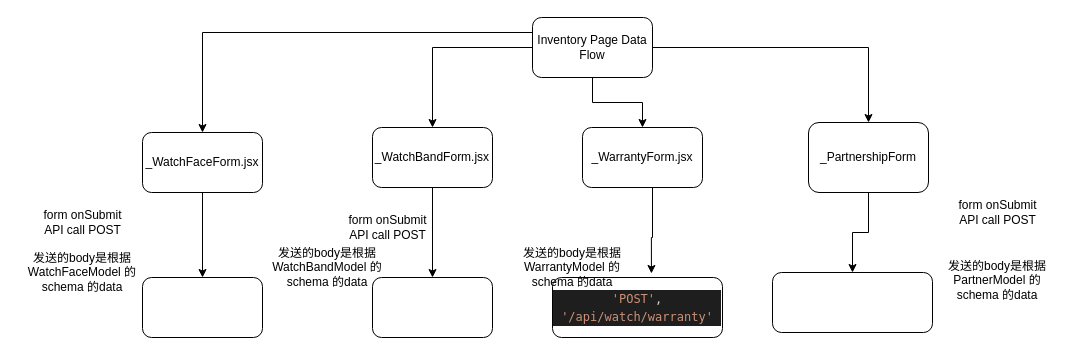
Image size: 1079x355. Some labels were removed from this diagram. Each missing label, with the box of its shape:
'POST' , '/api/watch/band': (372, 276, 492, 338)
'POST' , '/api/watch/face': (142, 276, 262, 338)
'POST' , '/api/watch/partner': (772, 272, 932, 332)
